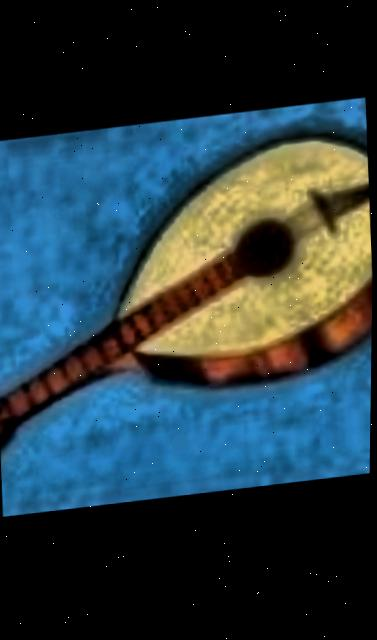El Bandolon: (0, 101, 376, 517)
